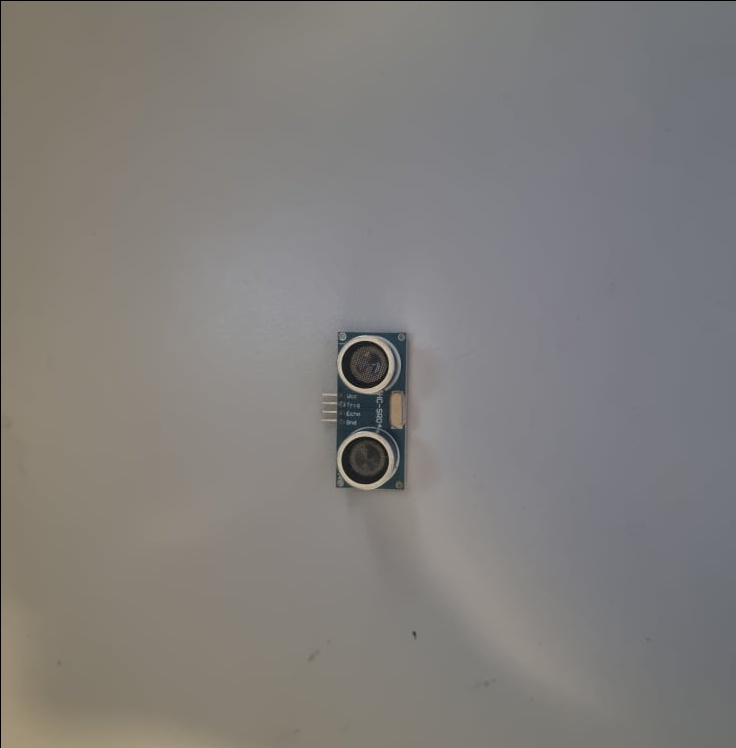SENSOR: (334, 330, 406, 492)
